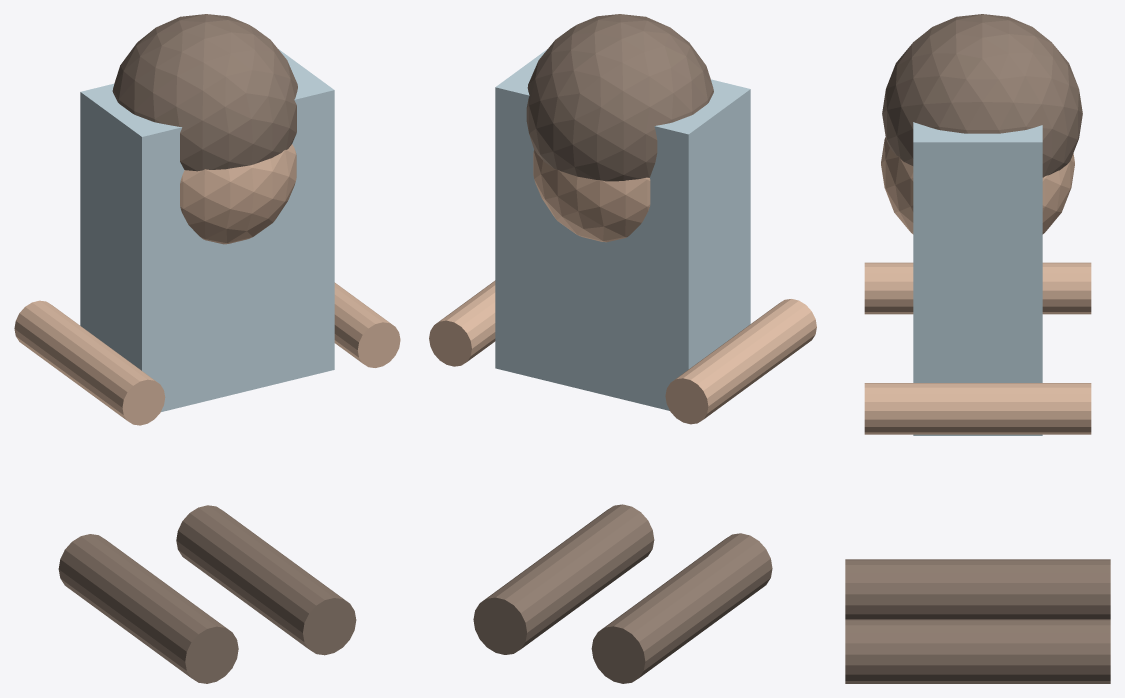
Rendered from sim_child_average.glb.
3 renders of one model, left to right at view 1: azimuth 30°, elevation 25°; view 2: azimuth 150°, elevation 25°; view 3: azimuth 270°, elevation 25°, orthographic. The views are drawn at different scales.
Parts seen in each view (by area): view 1: part_00, part_06, part_02, part_03, part_04, part_01, part_05; view 2: part_00, part_06, part_02, part_03, part_04, part_01, part_05; view 3: part_00, part_06, part_03, part_02, part_05, part_04, part_01.
Part boxes in pixels (box(x1,y1,x2,y2)): part_00: box(80, 49, 334, 411); part_06: box(112, 14, 297, 171); part_02: box(58, 534, 238, 683); part_03: box(176, 505, 356, 655); part_04: box(14, 300, 165, 425); part_01: box(180, 144, 296, 244); part_05: box(334, 282, 400, 367); part_00: box(495, 49, 750, 410); part_06: box(526, 14, 713, 181); part_02: box(591, 533, 772, 683); part_03: box(473, 504, 654, 654); part_04: box(665, 299, 816, 424); part_01: box(533, 150, 650, 242); part_05: box(429, 280, 495, 366); part_00: box(913, 122, 1042, 435); part_06: box(882, 14, 1082, 177); part_03: box(845, 619, 1110, 683); part_02: box(845, 559, 1110, 619); part_05: box(864, 383, 1091, 434); part_04: box(864, 262, 1091, 314); part_01: box(881, 137, 1074, 234).
Size of the model in its own units: 0.7488 by 1.54 by 0.5904.
